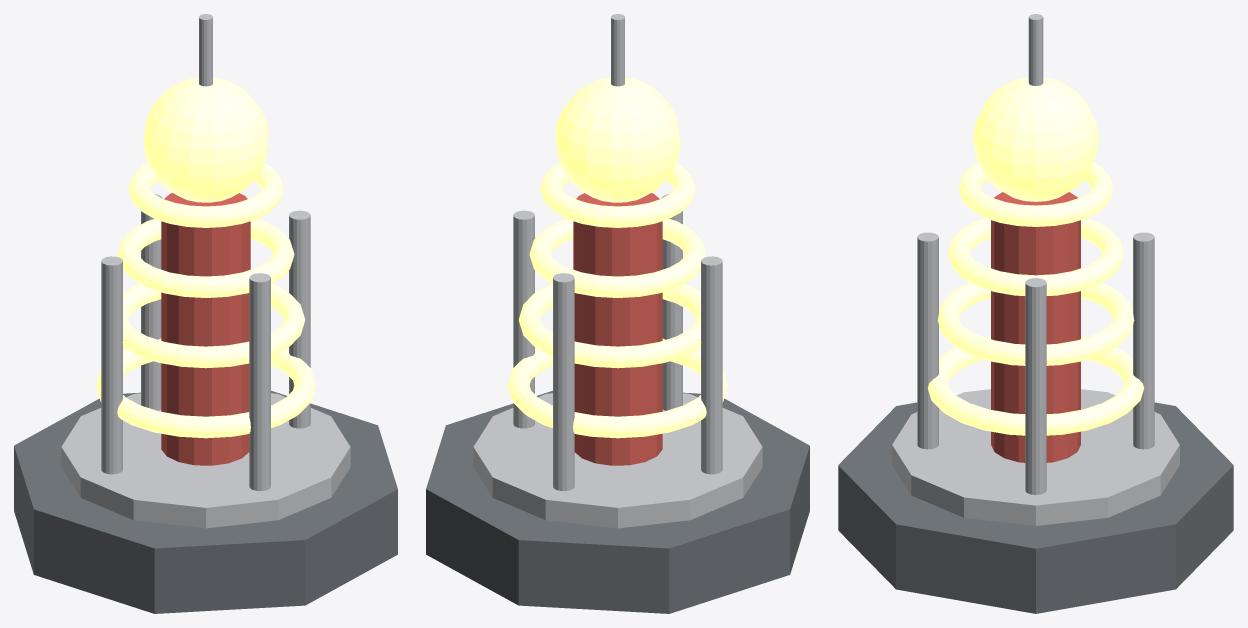
Rendered from test_tesla.glb.
3 views of the same model, side by side, from view 1: azimuth 30°, elevation 25°; view 2: azimuth 150°, elevation 25°; view 3: azimuth 270°, elevation 25° (orthographic).
Parts seen in each view (by area): view 1: Soviet_Tesla_coil; view 2: Soviet_Tesla_coil; view 3: Soviet_Tesla_coil.
Boxes of the visible parts, x1,y1,x2,y2 form: Soviet_Tesla_coil: (14,14,397,613); Soviet_Tesla_coil: (426,14,809,613); Soviet_Tesla_coil: (838,14,1233,613).
Size of the model in its own units: 4.4 by 6.3 by 4.4.
